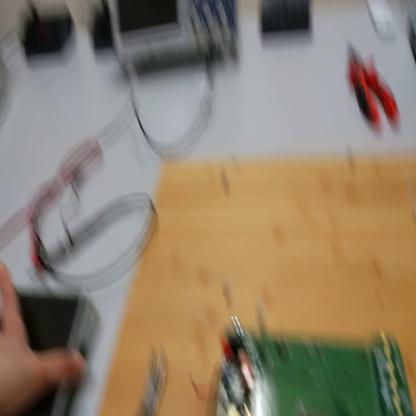hand: (2, 260, 90, 416)
low voltage board: (191, 321, 414, 416)
oscilloscope: (110, 3, 238, 87)
oscilloscope probe tip: (29, 203, 126, 280)
pliers: (347, 44, 401, 130), (136, 346, 166, 415)
power supply: (2, 50, 12, 118)
socket: (18, 9, 75, 58), (92, 7, 114, 51)
welder station: (408, 2, 416, 62)
